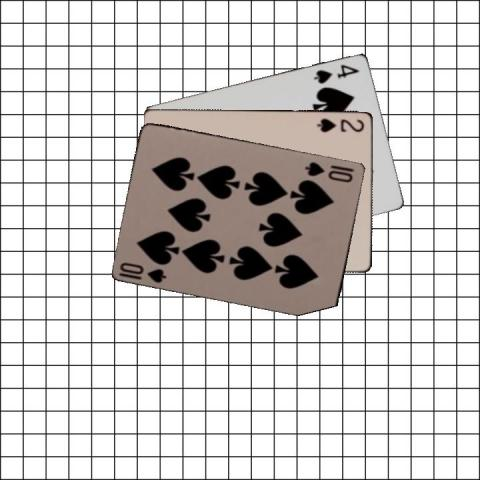10s: (303, 159, 355, 184), (116, 259, 168, 284)
2s: (314, 115, 366, 133)
4s: (310, 60, 360, 84)
